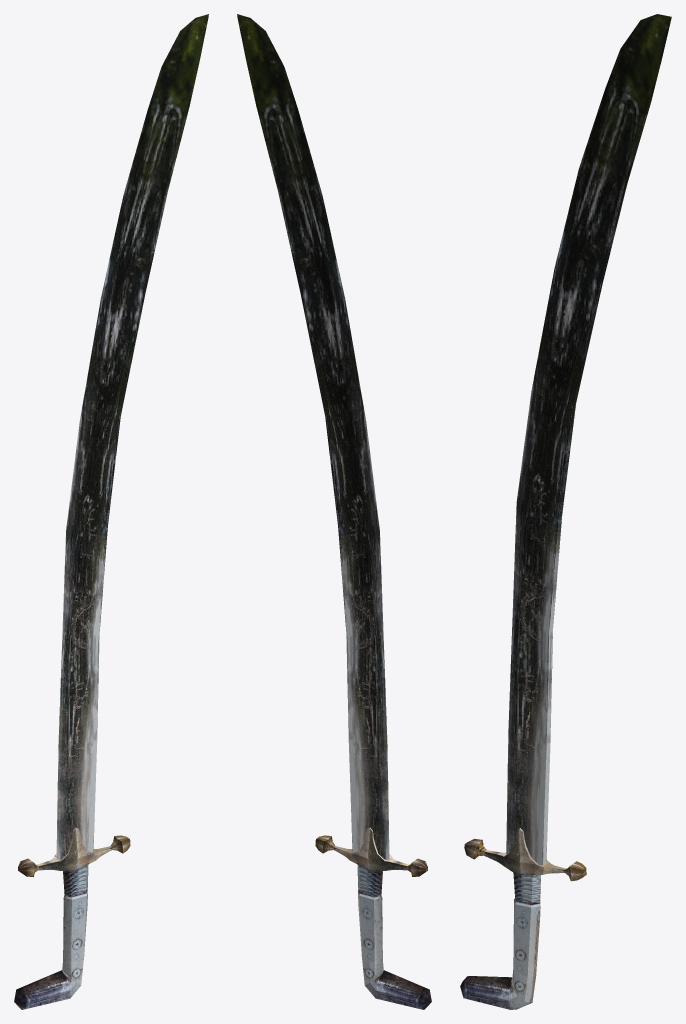
Rendered from buraq.glb.
3 renders of one model, left to right at view 1: azimuth 30°, elevation 25°; view 2: azimuth 150°, elevation 25°; view 3: azimuth 330°, elevation 25°, orthographic. The views are drawn at different scales.
Visible parts, largest first — view 1: Buraq; view 2: Buraq; view 3: Buraq.
Part boxes in pixels (left/top/right/bottom): Buraq: left=14, top=14, right=208, bottom=1009; Buraq: left=237, top=14, right=431, bottom=1009; Buraq: left=460, top=14, right=671, bottom=1009.
Bounding box in the file's own units: 0.1807 × 0.8419 × 0.0185.
Materials: 1 (1 with a texture image).
